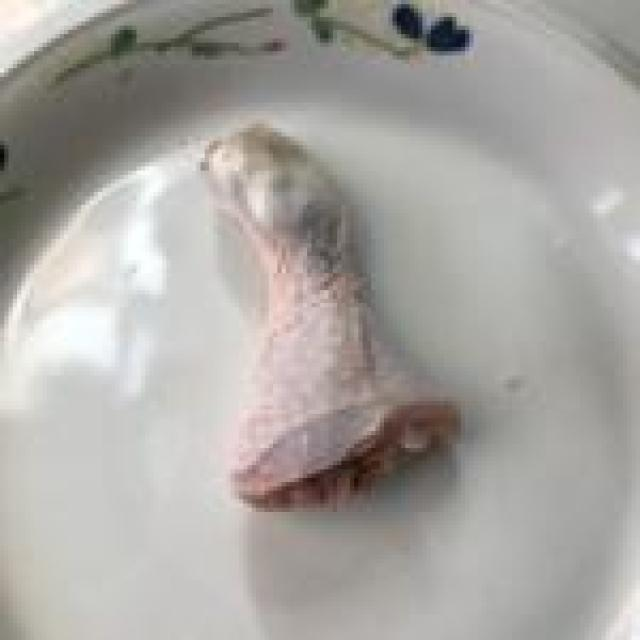leg: (200, 119, 464, 512)
